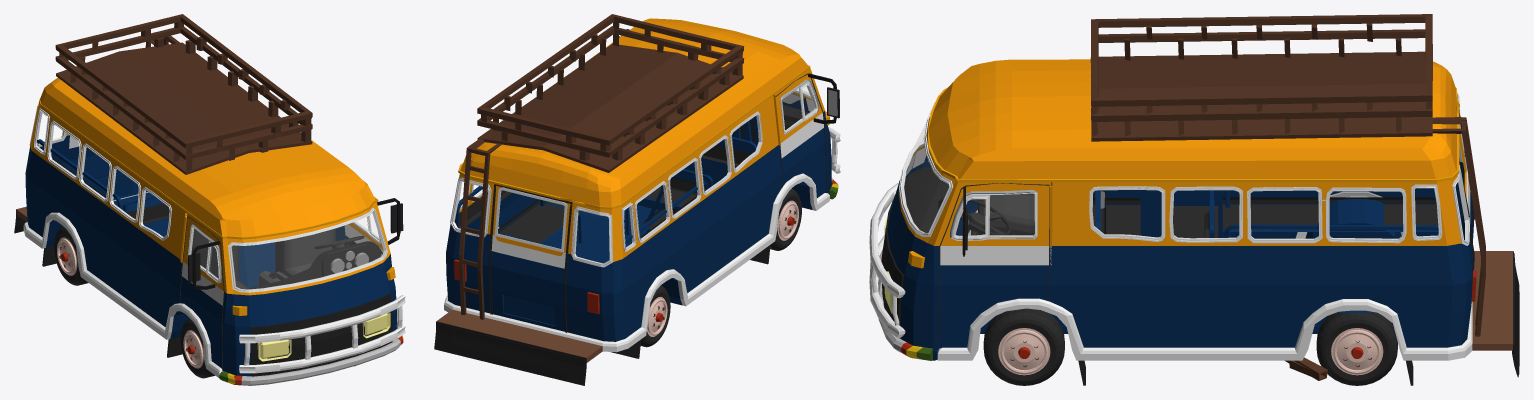
Rendered from carrapide.glb.
3 renders of one model, left to right at view 1: azimuth 30°, elevation 25°; view 2: azimuth 150°, elevation 25°; view 3: azimuth 270°, elevation 25°, orthographic. The views are drawn at different scales.
Visible parts, largest first — view 1: Carosserie, Pare buffle, Porte_avant_droit, Chaises avant, Tableau de bord, Parechoc avant.003, Porte_arriere, Grille, object 2, object 12, Pneu avant droit, Garde boue (+3 smaller); view 2: Carosserie, Porte_arriere, object 2, Garde boue, Porte_avant_droit, Escalier, Grille, Pneu avant droit, object 12, Fenetre_arriere, Porte_avant_gauche.001; view 3: Carosserie, Porte_avant_gauche, object 2, Pneu avant gauche, object 13, Pare buffle, Escalier, Chaises avant, Garde boue, Parechoc avant.003, Volant.
Boxes of the visible parts, left/top/right/bottom form: Carosserie: left=16, top=14, right=396, bottom=377; Pare buffle: left=239, top=295, right=405, bottom=373; Porte_avant_droit: left=180, top=217, right=223, bottom=368; Chaises avant: left=191, top=228, right=335, bottom=289; Tableau de bord: left=246, top=241, right=382, bottom=289; Parechoc avant.003: left=219, top=335, right=403, bottom=385; Porte_arriere: left=68, top=136, right=138, bottom=200; Grille: left=239, top=242, right=275, bottom=288; object 2: left=37, top=139, right=169, bottom=224; object 12: left=54, top=226, right=88, bottom=285; Pneu avant droit: left=180, top=318, right=214, bottom=378; Garde boue: left=14, top=206, right=182, bottom=357; Carosserie: left=436, top=14, right=831, bottom=362; Porte_arriere: left=490, top=185, right=570, bottom=331; object 2: left=454, top=136, right=756, bottom=243; Garde boue: left=434, top=245, right=770, bottom=385; Porte_avant_droit: left=775, top=74, right=826, bottom=197; Escalier: left=459, top=138, right=501, bottom=319; Grille: left=637, top=116, right=758, bottom=209; Pneu avant droit: left=770, top=188, right=801, bottom=250; object 12: left=640, top=285, right=670, bottom=347; Fenetre_arriere: left=494, top=187, right=567, bottom=252; Porte_avant_gauche.001: left=808, top=73, right=839, bottom=123; Carosserie: left=881, top=14, right=1512, bottom=380; Porte_avant_gauche: left=938, top=183, right=1049, bottom=347; object 2: left=1092, top=190, right=1438, bottom=312; Pneu avant gauche: left=983, top=308, right=1064, bottom=385; object 13: left=1316, top=312, right=1397, bottom=385; Pare buffle: left=869, top=183, right=905, bottom=337; Escalier: left=1432, top=117, right=1485, bottom=336; Chaises avant: left=978, top=193, right=1034, bottom=235; Garde boue: left=1078, top=251, right=1519, bottom=385; Parechoc avant.003: left=878, top=279, right=932, bottom=360; Volant: left=960, top=199, right=1011, bottom=235.
Size of the model in its own units: 1.22 by 1.17 by 2.43.
3 materials, 2 textured.
